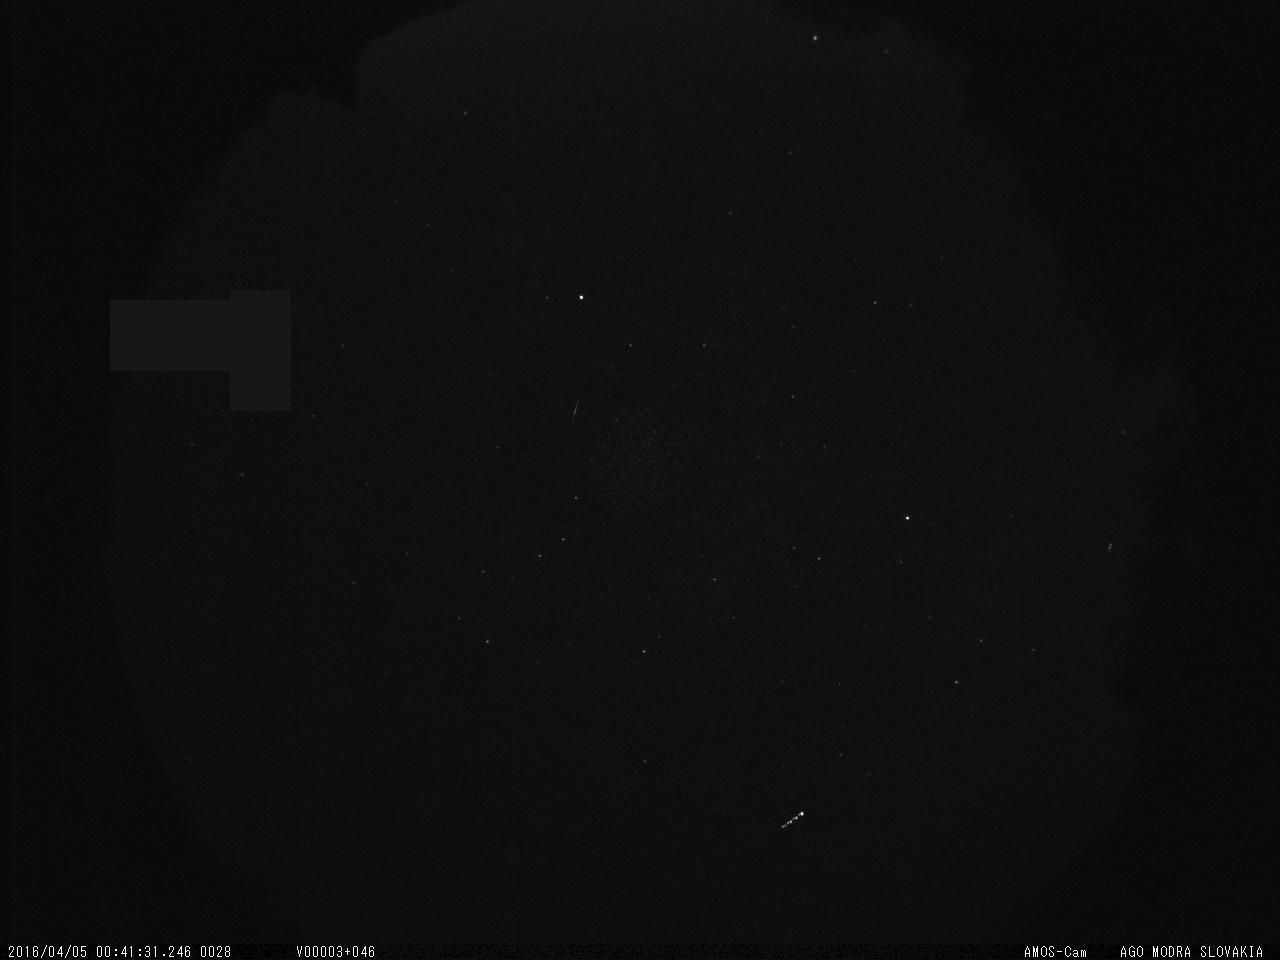meteor: (556, 391, 593, 432)
